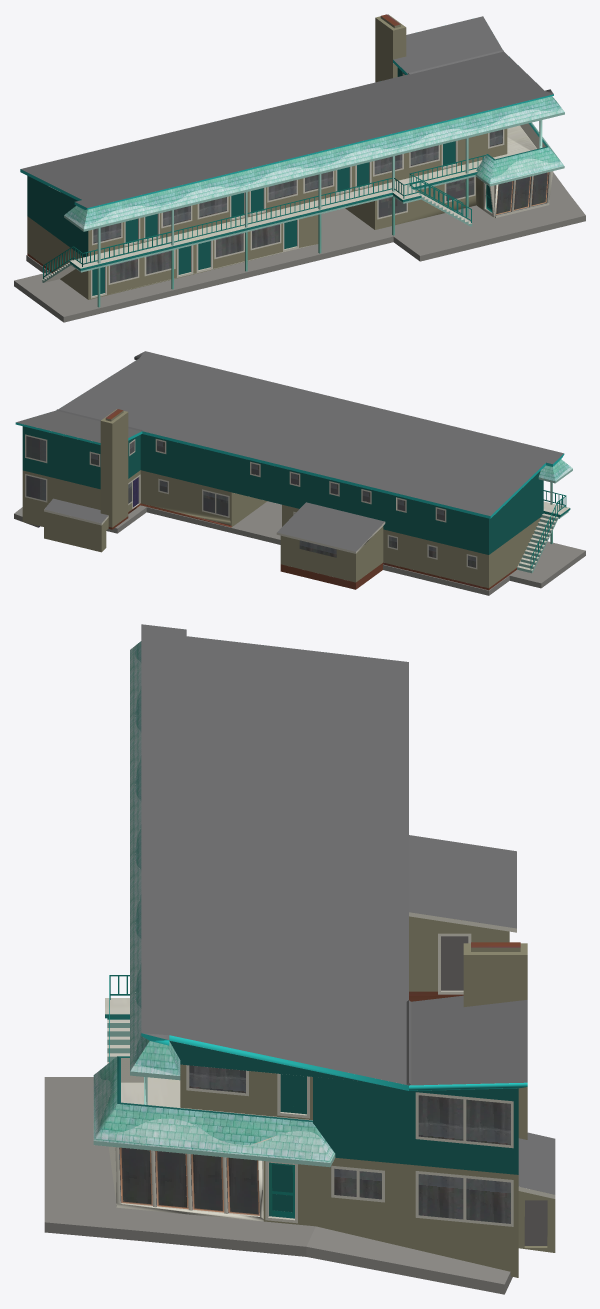
File: roadside-motel.lod0.glb
The picture shows the model from 3 angles, top to bottom: view 1: azimuth 30°, elevation 25°; view 2: azimuth 150°, elevation 25°; view 3: azimuth 270°, elevation 25°; orthographic projection. The views are drawn at different scales.
Visible parts, largest first — view 1: Object_6, Object_5, Object_11, Object_10, Object_8, Object_4; view 2: Object_6, Object_4, Object_5, Object_8, Object_11, Object_10; view 3: Object_6, Object_8, Object_11, Object_5, Object_10, Object_4.
Part boxes in pixels (<box>): Object_6: <box>14,14,585,322</box>; Object_5: <box>42,73,553,298</box>; Object_11: <box>42,105,564,282</box>; Object_10: <box>64,96,560,307</box>; Object_8: <box>93,129,549,283</box>; Object_4: <box>20,14,553,279</box>; Object_6: <box>14,351,585,595</box>; Object_4: <box>15,409,570,590</box>; Object_5: <box>25,434,569,570</box>; Object_8: <box>26,357,475,567</box>; Object_11: <box>517,466,572,573</box>; Object_10: <box>539,459,569,543</box>; Object_6: <box>44,624,555,1294</box>; Object_8: <box>119,1065,510,1223</box>; Object_11: <box>93,646,335,1167</box>; Object_5: <box>105,715,555,1226</box>; Object_10: <box>99,641,334,1152</box>; Object_4: <box>105,942,527,1218</box>.
Bounding box in the file's own units: 37.03 × 9.34 × 17.02.
6 materials, 5 textured.
